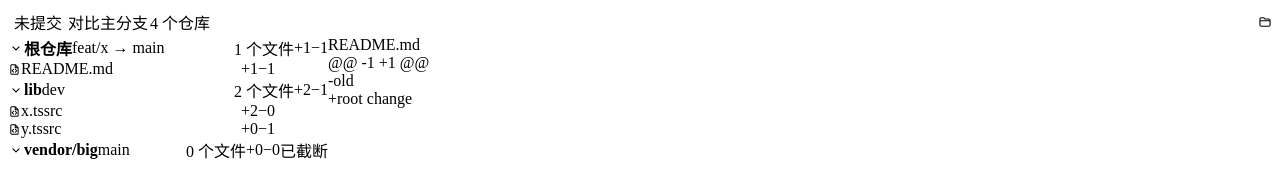
Test case: DiffPane grouped by repo › shows a collapsible header per repo with branch, counts and repo-relative paths
The image size is (1280, 179).
Expected: the text "4 个仓库" is shown, [150,10,210,34]
Expected: the button "根仓库 feat/x → main 1 个文件 +1 −1" is shown, [8,36,328,60]
Click the button "lib dev 2 个文件 +2 −1": (264, 92) [8,78,328,102]
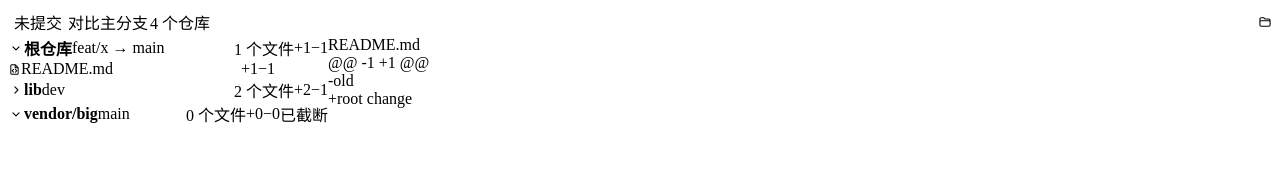
Expected: the button "README.md +1 −1" is shown, [8,60,314,78]
Result: the button "lib dev 2 个文件 +2 −1" is collapsed at [8,78,328,102]
Result: the button "x.ts" is gone
